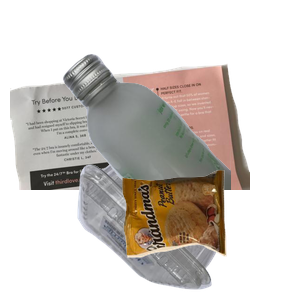glass: (60, 51, 300, 231)
paper: (10, 61, 250, 241)
plastic: (75, 147, 289, 300)
trash: (120, 168, 300, 300)
